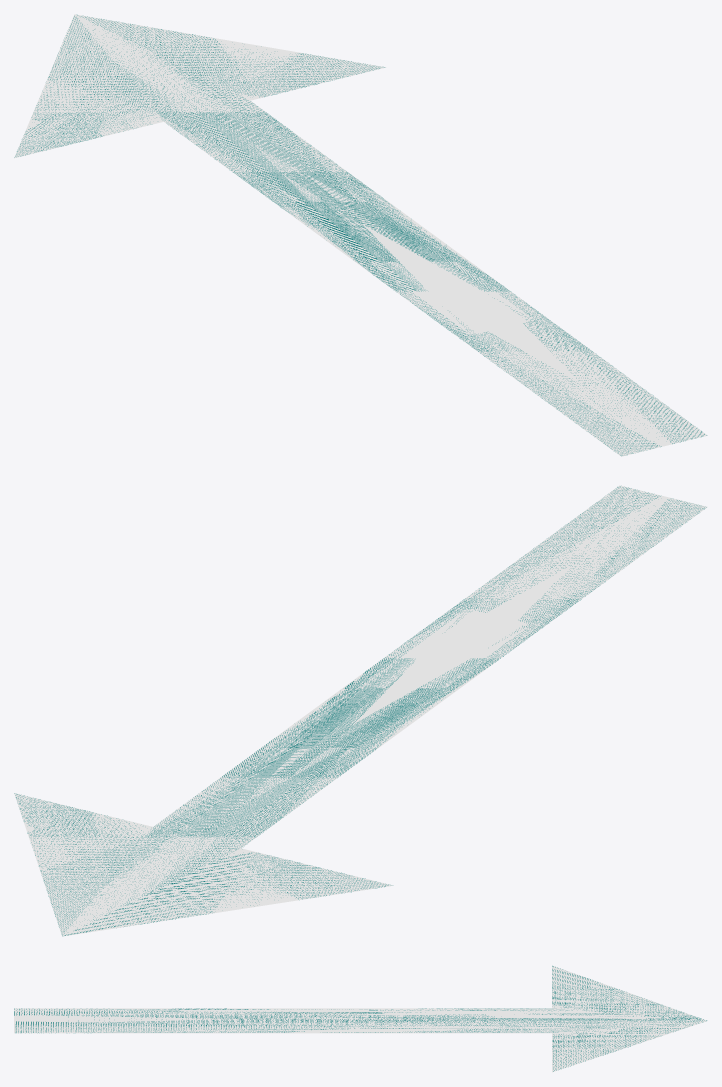
File: tealarrow.dae
3 renders of one model, top to bottom at view 1: azimuth 30°, elevation 25°; view 2: azimuth 150°, elevation 25°; view 3: azimuth 270°, elevation 25°, orthographic. The views are drawn at different scales.
Parts seen in each view (by area): view 1: SketchUp; view 2: SketchUp; view 3: SketchUp.
Part boxes in pixels (x1=…): SketchUp: x1=14, y1=14, x2=707, y2=456; SketchUp: x1=14, y1=485, x2=707, y2=936; SketchUp: x1=14, y1=965, x2=707, y2=1072.
Size of the model in its own units: 168 by 462 by 0.
